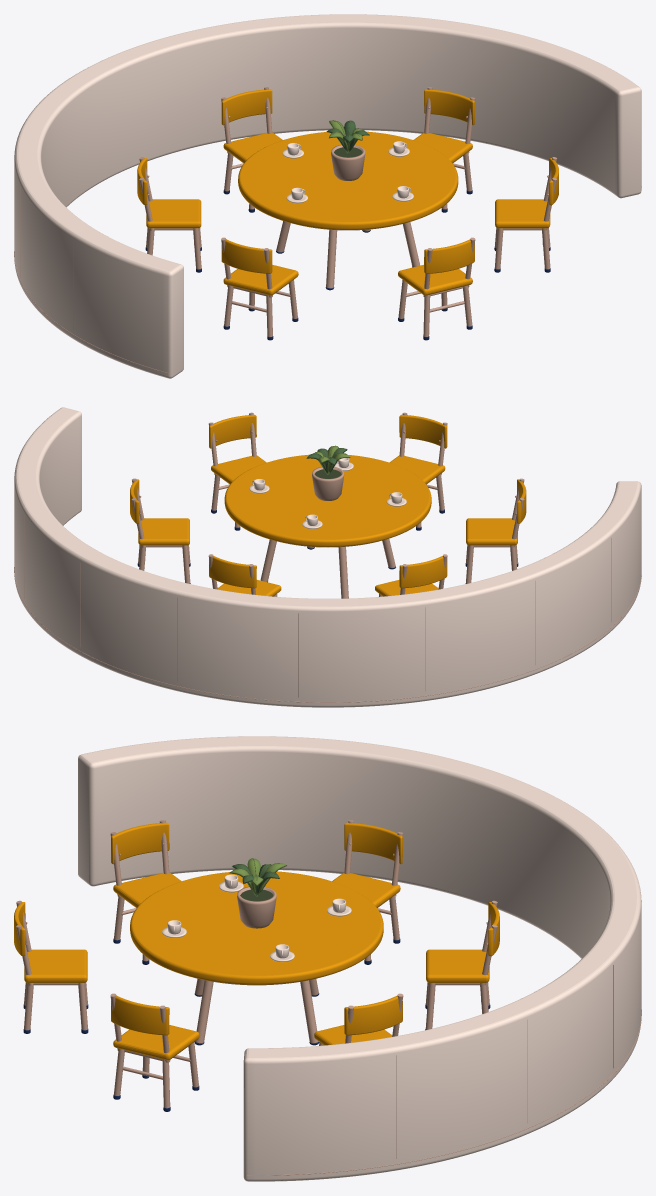
Rendered from 04_round_meeting.glb.
The picture shows the model from 3 angles, top to bottom: view 1: azimuth 30°, elevation 25°; view 2: azimuth 150°, elevation 25°; view 3: azimuth 270°, elevation 25°; orthographic projection. The views are drawn at different scales.
Visible parts, largest first — view 1: Partitions / Round meeting partition / Warm Ivory / Ceramic, Tables / Round table / Mustard Yellow / Furniture, Chairs / Chair 06 / Mustard Yellow / Furniture, Chairs / Chair 01 / Mustard Yellow / Furniture, Chairs / Chair 04 / Mustard Yellow / Furniture, Chairs / Chair 03 / Mustard Yellow / Furniture, Chairs / Chair 05 / Mustard Yellow / Furniture, Chairs / Chair 02 / Mustard Yellow / Furniture, Chairs / Chair 01 / Soft Taupe / Recess and stone, Chairs / Chair 06 / Soft Taupe / Recess and stone, Tables / Round table / Soft Taupe / Recess and stone, Tabletop / Ceramics / Warm Ivory / Ceramic (+5 smaller); view 2: Partitions / Round meeting partition / Warm Ivory / Ceramic, Tables / Round table / Mustard Yellow / Furniture, Chairs / Chair 01 / Mustard Yellow / Furniture, Chairs / Chair 02 / Mustard Yellow / Furniture, Chairs / Chair 03 / Mustard Yellow / Furniture, Chairs / Chair 06 / Mustard Yellow / Furniture, Chairs / Chair 05 / Mustard Yellow / Furniture, Chairs / Chair 04 / Mustard Yellow / Furniture, Partitions / Round meeting partition / Soft Taupe / Recess a, Tables / Round table / Soft Taupe / Recess and stone, Tabletop / Ceramics / Warm Ivory / Ceramic, Chairs / Chair 03 / Soft Taupe / Recess and stone (+4 smaller); view 3: Partitions / Round meeting partition / Warm Ivory / Ceramic, Tables / Round table / Mustard Yellow / Furniture, Chairs / Chair 02 / Mustard Yellow / Furniture, Chairs / Chair 05 / Mustard Yellow / Furniture, Chairs / Chair 06 / Mustard Yellow / Furniture, Chairs / Chair 01 / Mustard Yellow / Furniture, Chairs / Chair 04 / Mustard Yellow / Furniture, Chairs / Chair 03 / Mustard Yellow / Furniture, Chairs / Chair 02 / Soft Taupe / Recess and stone, Tables / Round table / Soft Taupe / Recess and stone, Tabletop / Ceramics / Warm Ivory / Ceramic, Chairs / Chair 01 / Soft Taupe / Recess and stone (+6 smaller).
Part boxes in pixels (x1=…): Partitions / Round meeting partition / Warm Ivory / Ceramic: x1=14, y1=14, x2=641, y2=378; Tables / Round table / Mustard Yellow / Furniture: x1=238, y1=131, x2=458, y2=229; Chairs / Chair 06 / Mustard Yellow / Furniture: x1=221, y1=239, x2=298, y2=295; Chairs / Chair 01 / Mustard Yellow / Furniture: x1=398, y1=239, x2=474, y2=295; Chairs / Chair 04 / Mustard Yellow / Furniture: x1=221, y1=89, x2=282, y2=163; Chairs / Chair 03 / Mustard Yellow / Furniture: x1=413, y1=89, x2=474, y2=163; Chairs / Chair 05 / Mustard Yellow / Furniture: x1=137, y1=158, x2=201, y2=228; Chairs / Chair 02 / Mustard Yellow / Furniture: x1=495, y1=158, x2=558, y2=228; Chairs / Chair 01 / Soft Taupe / Recess and stone: x1=398, y1=237, x2=475, y2=336; Chairs / Chair 06 / Soft Taupe / Recess and stone: x1=221, y1=237, x2=297, y2=336; Tables / Round table / Soft Taupe / Recess and stone: x1=276, y1=221, x2=420, y2=288; Tabletop / Ceramics / Warm Ivory / Ceramic: x1=282, y1=141, x2=413, y2=203; Partitions / Round meeting partition / Warm Ivory / Ceramic: x1=14, y1=407, x2=641, y2=707; Tables / Round table / Mustard Yellow / Furniture: x1=224, y1=454, x2=431, y2=547; Chairs / Chair 01 / Mustard Yellow / Furniture: x1=389, y1=414, x2=447, y2=484; Chairs / Chair 02 / Mustard Yellow / Furniture: x1=209, y1=414, x2=266, y2=483; Chairs / Chair 03 / Mustard Yellow / Furniture: x1=130, y1=479, x2=189, y2=545; Chairs / Chair 06 / Mustard Yellow / Furniture: x1=466, y1=479, x2=526, y2=545; Chairs / Chair 05 / Mustard Yellow / Furniture: x1=375, y1=556, x2=447, y2=596; Chairs / Chair 04 / Mustard Yellow / Furniture: x1=209, y1=556, x2=281, y2=596; Partitions / Round meeting partition / Soft Taupe / Recess a: x1=14, y1=515, x2=641, y2=702; Tables / Round table / Soft Taupe / Recess and stone: x1=260, y1=538, x2=395, y2=598; Tabletop / Ceramics / Warm Ivory / Ceramic: x1=249, y1=458, x2=406, y2=529; Chairs / Chair 03 / Soft Taupe / Recess and stone: x1=131, y1=478, x2=190, y2=583; Partitions / Round meeting partition / Warm Ivory / Ceramic: x1=78, y1=736, x2=641, y2=1181; Tables / Round table / Mustard Yellow / Furniture: x1=130, y1=871, x2=383, y2=984; Chairs / Chair 02 / Mustard Yellow / Furniture: x1=111, y1=995, x2=199, y2=1060; Chairs / Chair 05 / Mustard Yellow / Furniture: x1=332, y1=822, x2=402, y2=907; Chairs / Chair 06 / Mustard Yellow / Furniture: x1=111, y1=822, x2=181, y2=907; Chairs / Chair 01 / Mustard Yellow / Furniture: x1=14, y1=902, x2=87, y2=982; Chairs / Chair 04 / Mustard Yellow / Furniture: x1=426, y1=902, x2=499, y2=982; Chairs / Chair 03 / Mustard Yellow / Furniture: x1=314, y1=995, x2=402, y2=1045; Chairs / Chair 02 / Soft Taupe / Recess and stone: x1=110, y1=993, x2=198, y2=1108; Tables / Round table / Soft Taupe / Recess and stone: x1=195, y1=978, x2=318, y2=1043; Tabletop / Ceramics / Warm Ivory / Ceramic: x1=162, y1=874, x2=351, y2=962; Chairs / Chair 01 / Soft Taupe / Recess and stone: x1=16, y1=900, x2=87, y2=1030.
Size of the model in its own units: 5.83 by 1.3 by 4.75.
